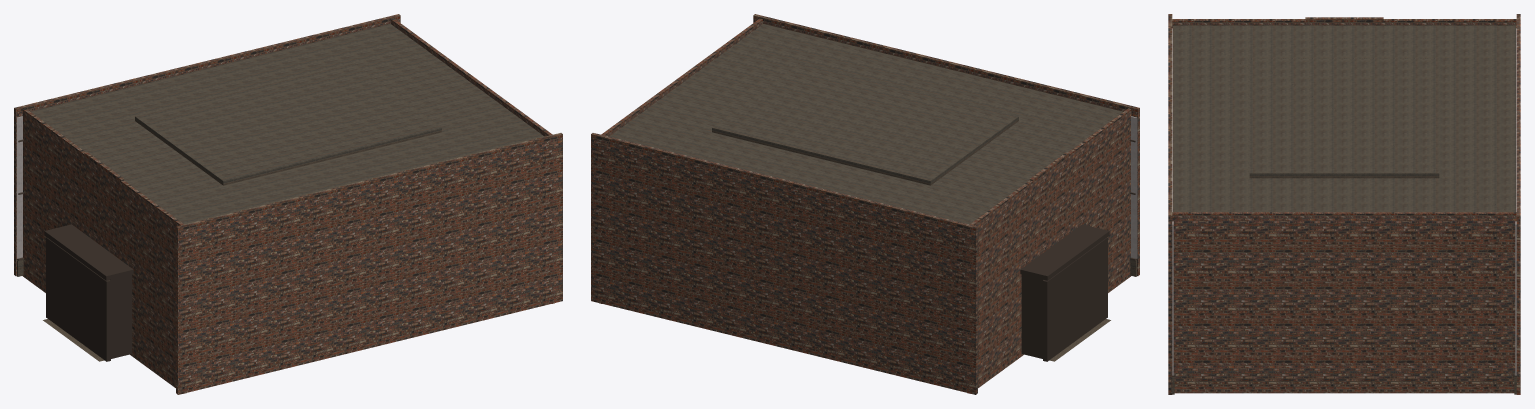
File: crown-shop.glb
The picture shows the model from 3 angles, left to right: view 1: azimuth 30°, elevation 25°; view 2: azimuth 150°, elevation 25°; view 3: azimuth 270°, elevation 25°; orthographic projection. The views are drawn at different scales.
Parts seen in each view (by area): view 1: bake:brick_wall_001:brick:#6f584c, bake:dark_wooden_planks:darkWood, bake:plain:plain:#3a3029:1.00:0.00:None, bake:painted_plaster_wall:plaster:#a8977c; view 2: bake:brick_wall_001:brick:#6f584c, bake:dark_wooden_planks:darkWood, bake:plain:plain:#3a3029:1.00:0.00:None, bake:painted_plaster_wall:plaster:#a8977c; view 3: bake:brick_wall_001:brick:#6f584c, bake:dark_wooden_planks:darkWood, bake:painted_plaster_wall:plaster:#a8977c.
Part boxes in pixels (box(x1,y1,x2,y2)): bake:brick_wall_001:brick:#6f584c: box(14, 14, 562, 394); bake:dark_wooden_planks:darkWood: box(17, 24, 544, 392); bake:plain:plain:#3a3029:1.00:0.00:None: box(44, 224, 133, 361); bake:painted_plaster_wall:plaster:#a8977c: box(16, 116, 22, 258); bake:brick_wall_001:brick:#6f584c: box(591, 14, 1139, 394); bake:dark_wooden_planks:darkWood: box(609, 24, 1136, 392); bake:plain:plain:#3a3029:1.00:0.00:None: box(1020, 224, 1109, 361); bake:painted_plaster_wall:plaster:#a8977c: box(1131, 116, 1137, 258); bake:brick_wall_001:brick:#6f584c: box(1168, 14, 1520, 394); bake:dark_wooden_planks:darkWood: box(1172, 25, 1516, 394); bake:painted_plaster_wall:plaster:#a8977c: box(1172, 28, 1516, 375).
Bounding box in the file's own units: 37.5 × 14.76 × 26.
Materials: 28 (7 with a texture image).
